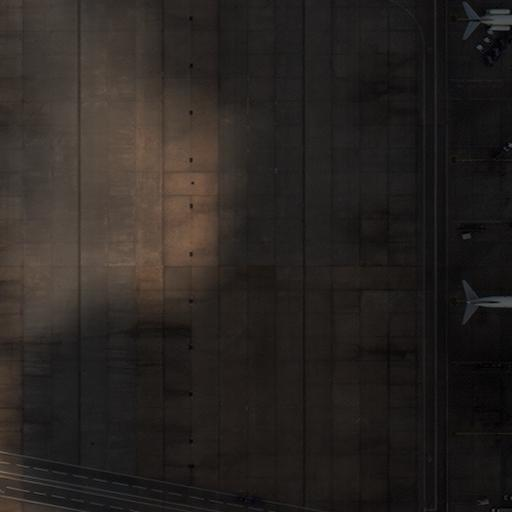Medium Civil Transport: (462, 260, 511, 342), (456, 0, 511, 64)
